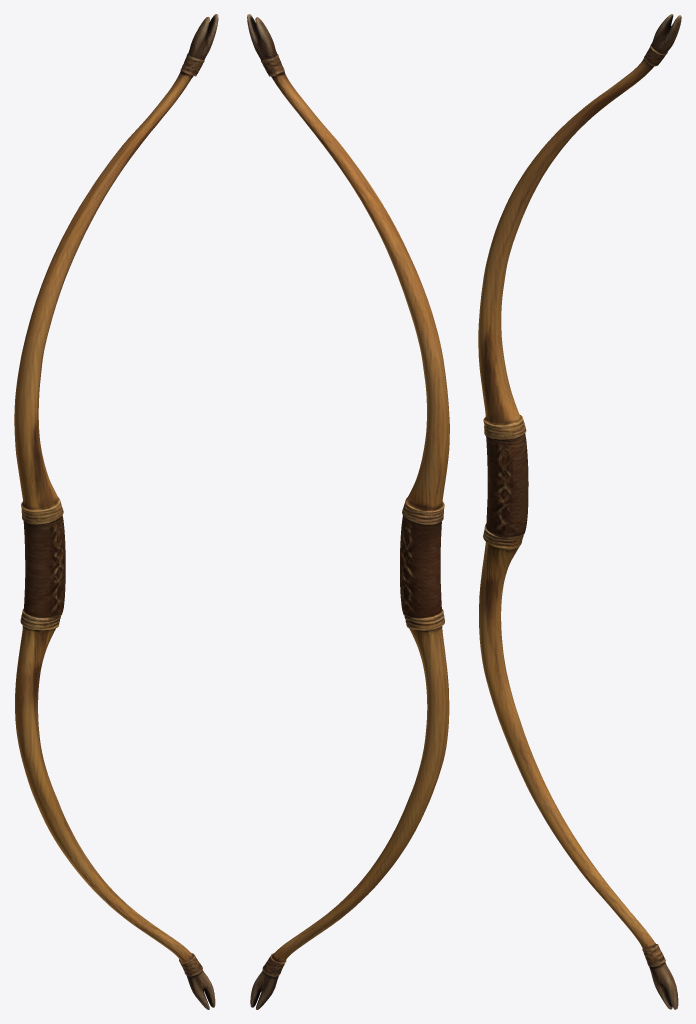
File: source.glb
The picture shows the model from 3 angles, left to right: view 1: azimuth 30°, elevation 25°; view 2: azimuth 150°, elevation 25°; view 3: azimuth 330°, elevation 25°; orthographic projection.
Visible parts, largest first — view 1: model; view 2: model; view 3: model.
Boxes of the visible parts, x1=… form: model: x1=14, y1=14, x2=218, y2=1009; model: x1=247, y1=14, x2=449, y2=1009; model: x1=478, y1=14, x2=681, y2=1009.
Size of the model in its own units: 0.4035 by 1.9 by 0.0675.
1 material, 1 textured.
